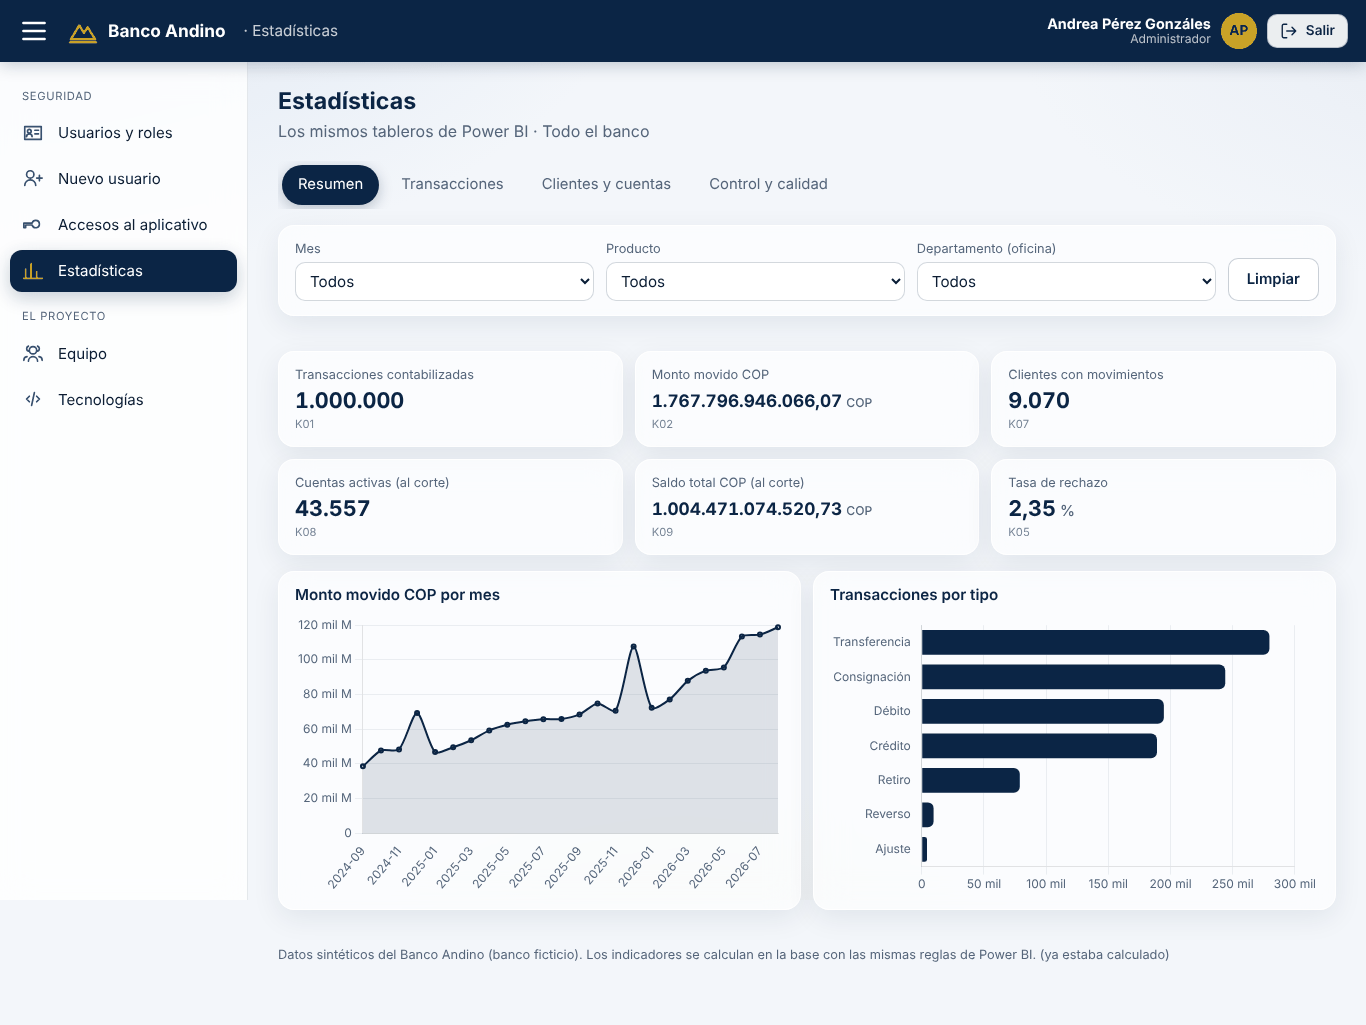

Layout of this report page (visuals, bound fields, positions):
{"tool":"powerbi","page":{"name":"Resumen","canvas":[1280,720],"ordinal":0},"visuals":[{"type":"textbox","box":[24,12,520,48],"z":0},{"type":"slicer","title":"Mes","fields":{"Values":["bi dim_fecha.anio_mes"]},"box":[600,10,210,58],"z":1000},{"type":"slicer","title":"Producto","fields":{"Values":["bi dim_producto.producto"]},"box":[825,10,210,58],"z":2000},{"type":"slicer","title":"Departamento (oficina)","fields":{"Values":["bi dim_oficina.departamento"]},"box":[1050,10,210,58],"z":3000},{"type":"card","fields":{"Values":["bi fact_transaccion.K01 Transacciones contabilizadas"]},"box":[24,84,195.3,96],"z":10000},{"type":"card","fields":{"Values":["bi fact_transaccion.K02 Monto movido COP"]},"box":[231.3,84,195.3,96],"z":11000},{"type":"card","fields":{"Values":["bi fact_transaccion.K07 Clientes con movimientos"]},"box":[438.7,84,195.3,96],"z":12000},{"type":"card","fields":{"Values":["bi fact_saldo_cuenta.K08 Cuentas activas"]},"box":[646,84,195.3,96],"z":13000},{"type":"card","fields":{"Values":["bi fact_saldo_cuenta.K09 Saldo total COP"]},"box":[853.3,84,195.3,96],"z":14000},{"type":"card","fields":{"Values":["bi fact_transaccion.K05 Tasa de rechazo %"]},"box":[1060.7,84,195.3,96],"z":15000},{"type":"lineChart","title":"Monto movido COP por mes","fields":{"Category":["bi dim_fecha.anio_mes"],"Y":["bi fact_transaccion.K02 Monto movido COP"]},"box":[24,196,760,500],"z":20000},{"type":"barChart","title":"Transacciones por tipo","fields":{"Category":["bi dim_tipo_transaccion.tipo"],"Y":["bi fact_transaccion.K01 Transacciones contabilizadas"]},"box":[800,196,456,500],"z":21000}]}

Visuals, with their boxes on the page's 1280x720 design canvas (x1, y1, x2, y2). These are canvas units, not pixel positions in the 1366x1025 screenshot, which may show the page scaled, cropped or inside an application window:
textbox: x1=24 y1=12 x2=544 y2=60
"Mes" slicer: x1=600 y1=10 x2=810 y2=68
"Producto" slicer: x1=825 y1=10 x2=1035 y2=68
"Departamento (oficina)" slicer: x1=1050 y1=10 x2=1260 y2=68
card - bi fact_transaccion.K01 Transacciones contabilizadas: x1=24 y1=84 x2=219 y2=180
card - bi fact_transaccion.K02 Monto movido COP: x1=231 y1=84 x2=427 y2=180
card - bi fact_transaccion.K07 Clientes con movimientos: x1=439 y1=84 x2=634 y2=180
card - bi fact_saldo_cuenta.K08 Cuentas activas: x1=646 y1=84 x2=841 y2=180
card - bi fact_saldo_cuenta.K09 Saldo total COP: x1=853 y1=84 x2=1049 y2=180
card - bi fact_transaccion.K05 Tasa de rechazo %: x1=1061 y1=84 x2=1256 y2=180
"Monto movido COP por mes" lineChart: x1=24 y1=196 x2=784 y2=696
"Transacciones por tipo" barChart: x1=800 y1=196 x2=1256 y2=696
